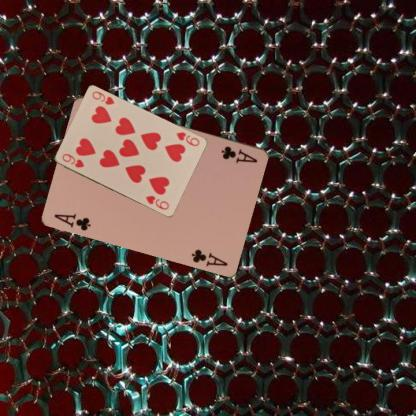9h: (59, 151, 85, 169), (174, 130, 200, 147)
Ac: (52, 210, 92, 233), (219, 143, 259, 164)
